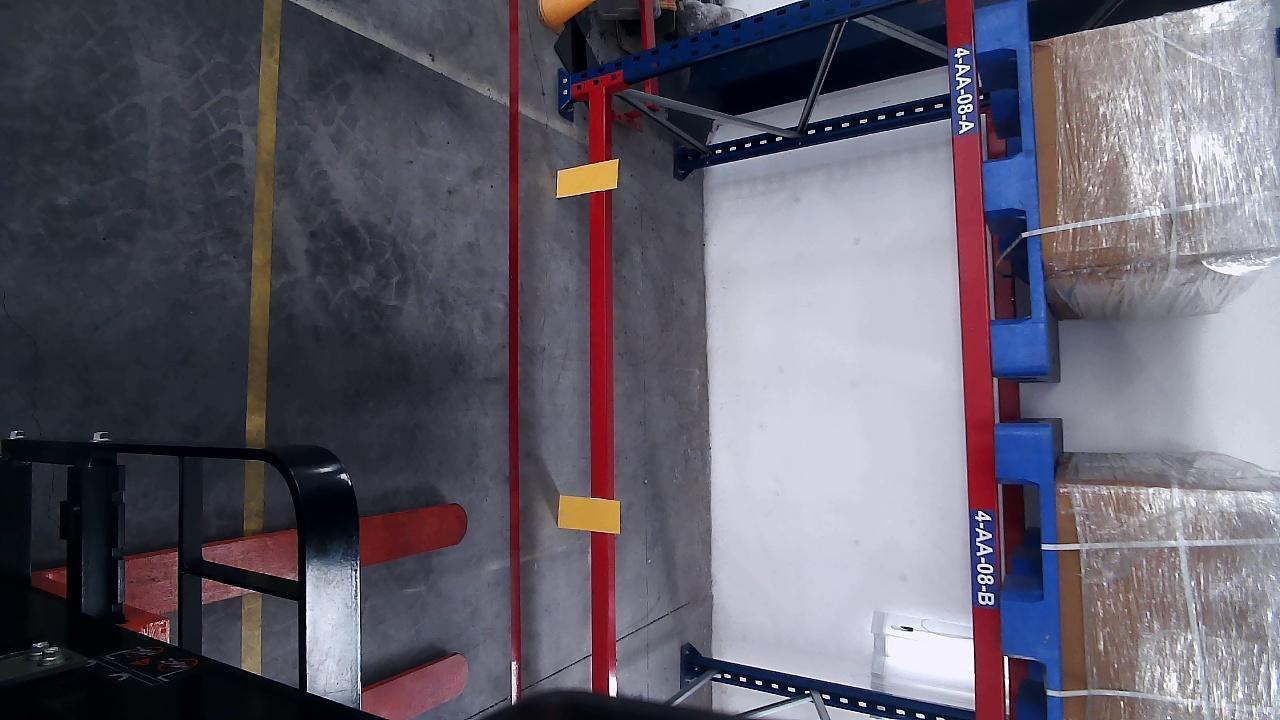h_rack: (944, 0, 1009, 716), (581, 87, 611, 689)
orange_strip: (556, 494, 623, 536), (555, 162, 619, 196)
red_line: (503, 1, 526, 698)
small_pallet: (977, 5, 1051, 364), (998, 428, 1065, 715)
yellow_line: (242, 0, 284, 445)
